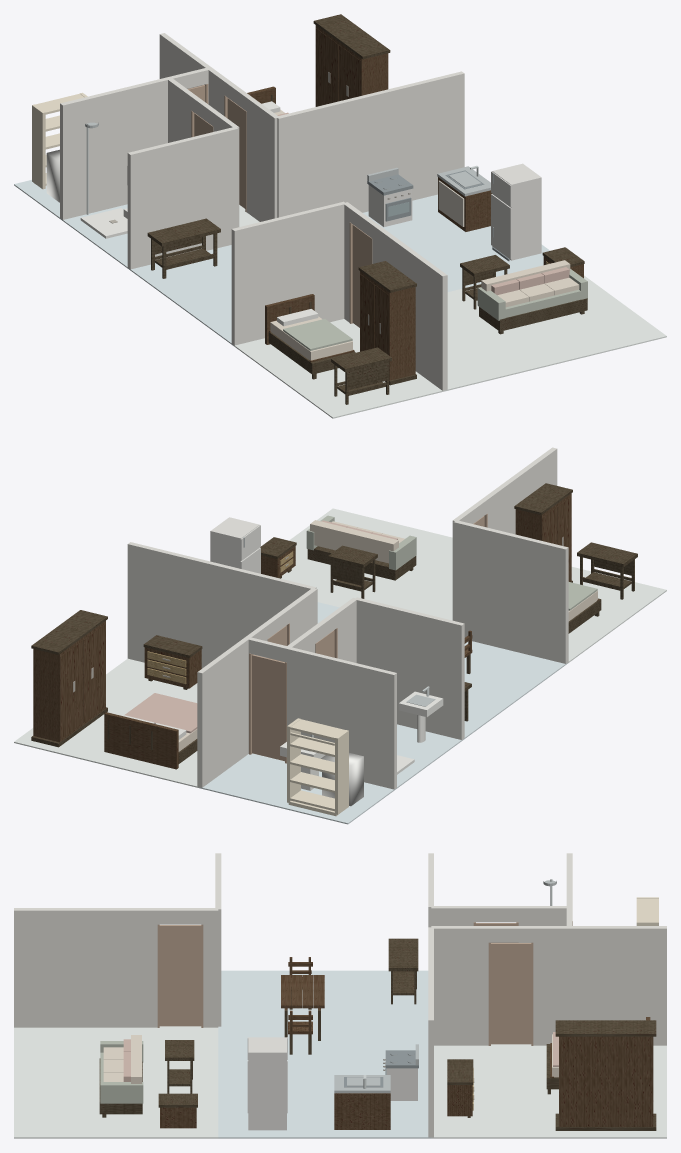
The picture shows the model from 3 angles, top to bottom: view 1: azimuth 30°, elevation 25°; view 2: azimuth 150°, elevation 25°; view 3: azimuth 270°, elevation 25°; orthographic projection. The views are drawn at different scales.
Parts seen in each view (by area): view 1: H26_WALL_04, H26_WALL_02, H26_FLOOR_01_SALA, H26_WALL_03, H26_WALL_09, H26_FLOOR_02_COZINHA_+_JANTAR, H26_FLOOR_00_QUARTO_02, H26_WALL_00, H26_WALL_07, H26_FURN_09_fridge__05__gabinete, H26_FURN_01_wardrobe__06__corpo, H26_WALL_08 (+34 smaller); view 2: H26_WALL_02, H26_WALL_04, H26_WALL_03, H26_WALL_09, H26_FLOOR_01_SALA, H26_WALL_08, H26_FLOOR_06_QUARTO_CASAL, H26_FLOOR_02_COZINHA_+_JANTAR, H26_FLOOR_05_LAVANDERIA, H26_DOOR_03_LEAF, H26_FLOOR_00_QUARTO_02, H26_FURN_19_bed_double__07__cabeceira (+31 smaller); view 3: H26_FLOOR_02_COZINHA_+_JANTAR, H26_FLOOR_01_SALA, H26_WALL_00, H26_WALL_08, H26_FLOOR_06_QUARTO_CASAL, H26_FURN_20_wardrobe__06__corpo, H26_WALL_07, H26_DOOR_00_LEAF, H26_DOOR_02_LEAF, H26_FURN_09_fridge__05__gabinete, H26_FURN_10_kitchen_sink__06__base, H26_WALL_01 (+23 smaller).
Part boxes in pixels (x1,y1,x2,y2): H26_WALL_04: (276,71,464,217); H26_WALL_02: (231,201,345,345); H26_FLOOR_01_SALA: (445,275,666,391); H26_WALL_03: (127,127,238,269); H26_WALL_09: (60,77,169,219); H26_FLOOR_02_COZINHA_+_JANTAR: (129,194,549,345); H26_FLOOR_00_QUARTO_02: (233,319,444,418); H26_WALL_00: (372,223,447,390); H26_WALL_07: (246,96,277,221); H26_FURN_09_fridge__05__gabinete: (492,163,541,260); H26_FURN_01_wardrobe__06__corpo: (360,271,415,380); H26_WALL_08: (159,33,229,115); H26_WALL_02: (453,520,568,663); H26_WALL_04: (127,542,316,668); H26_WALL_03: (354,597,464,739); H26_WALL_09: (286,647,396,789); H26_FLOOR_01_SALA: (281,508,452,620); H26_WALL_08: (197,624,268,787); H26_FLOOR_06_QUARTO_CASAL: (14,658,199,788); H26_FLOOR_02_COZINHA_+_JANTAR: (317,602,567,739); H26_FLOOR_05_LAVANDERIA: (200,753,395,824); H26_DOOR_03_LEAF: (252,654,284,761); H26_FLOOR_00_QUARTO_02: (567,567,666,663); H26_FURN_19_bed_double__07__cabeceira: (104,712,178,769); H26_FLOOR_02_COZINHA_+_JANTAR: (218,970,431,1138); H26_FLOOR_01_SALA: (14,1026,218,1138); H26_WALL_00: (14,908,158,1027); H26_WALL_08: (532,926,666,1045); H26_FLOOR_06_QUARTO_CASAL: (431,1044,666,1138); H26_FURN_20_wardrobe__06__corpo: (559,1036,653,1126); H26_WALL_07: (431,926,489,1045); H26_DOOR_00_LEAF: (159,925,201,1026); H26_DOOR_02_LEAF: (491,943,531,1044); H26_FURN_09_fridge__05__gabinete: (248,1037,286,1130); H26_FURN_10_kitchen_sink__06__base: (334,1093,390,1129); H26_WALL_01: (202,908,218,1027).
Bounding box in the file's own units: 7.42 × 2.46 × 12.27.
22 materials, 3 textured.
